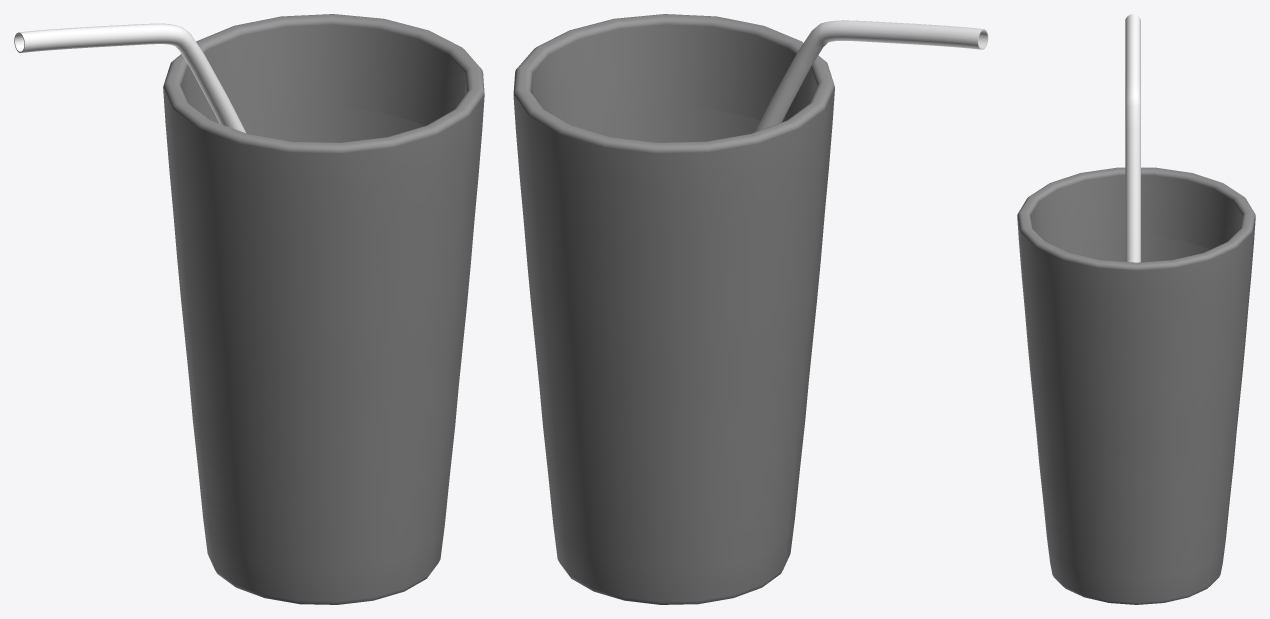
File: cup_of_tea.gltf
3 renders of one model, left to right at view 1: azimuth 30°, elevation 25°; view 2: azimuth 150°, elevation 25°; view 3: azimuth 270°, elevation 25°, orthographic. The views are drawn at different scales.
Visible parts, largest first — view 1: copo_low_01, copo_low_03; view 2: copo_low_01, copo_low_03; view 3: copo_low_01, copo_low_03.
Part boxes in pixels (x1,y1,x2,y2): copo_low_01: (163, 14, 484, 604); copo_low_03: (14, 23, 246, 133); copo_low_01: (513, 14, 834, 604); copo_low_03: (755, 20, 988, 131); copo_low_01: (1017, 167, 1255, 604); copo_low_03: (1125, 14, 1140, 262).
Bounding box in the file's own units: 0.7666 × 0.9835 × 0.4772.
Materials: 2 (2 with a texture image).
